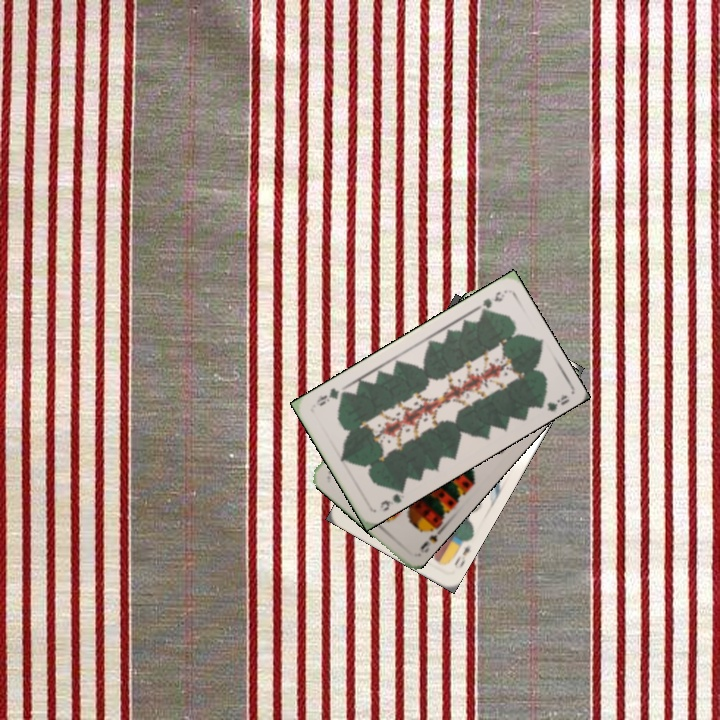EO: (447, 536, 473, 569)
G9: (376, 483, 406, 514), (477, 287, 507, 316)
S9: (416, 521, 446, 555)
